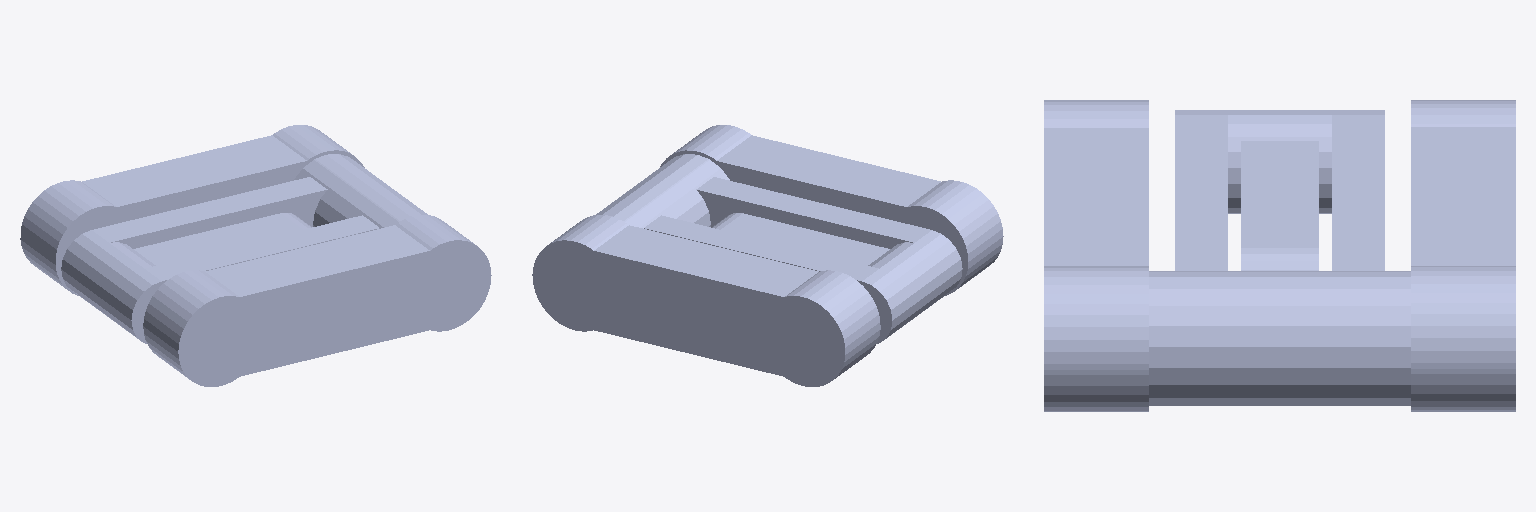
robot.urdf — HMMR:
<robot
  name="HMMR">
  <link
    name="base_link">
    <inertial>
      <origin
        xyz="-0.29285 0 -1.1102E-16"
        rpy="0 0 0" />
      <mass
        value="100" />
      <inertia
        ixx="13.041"
        ixy="5.7234E-16"
        ixz="-9.4857E-16"
        iyy="10.742"
        iyz="8.2239E-16"
        izz="22.623" />
    </inertial>
    <visual>
      <origin
        xyz="0 0 0"
        rpy="0 0 0" />
      <geometry>
        <mesh
          filename="package://HMMR/meshes/base_link.STL" />
      </geometry>
      <material
        name="">
        <color
          rgba="0.79216 0.81961 0.93333 1" />
      </material>
    </visual>
    <collision>
      <origin
        xyz="0 0 0"
        rpy="0 0 0" />
      <geometry>
        <mesh
          filename="package://HMMR/meshes/base_link.STL" />
      </geometry>
    </collision>
  </link>
  <link
    name="L1">
    <inertial>
      <origin
        xyz="-0.37454 0.26079 0"
        rpy="0 0 0" />
      <mass
        value="50" />
      <inertia
        ixx="2.2546"
        ixy="1.7267"
        ixz="3.434E-17"
        iyy="3.5322"
        iyz="-3.7342E-19"
        izz="3.9584" />
    </inertial>
    <visual>
      <origin
        xyz="0 0 0"
        rpy="0 0 0" />
      <geometry>
        <mesh
          filename="package://HMMR/meshes/L1.STL" />
      </geometry>
      <material
        name="">
        <color
          rgba="0.79216 0.81961 0.93333 1" />
      </material>
    </visual>
    <collision>
      <origin
        xyz="0 0 0"
        rpy="0 0 0" />
      <geometry>
        <mesh
          filename="package://HMMR/meshes/L1.STL" />
      </geometry>
    </collision>
  </link>
  <joint
    name="Revolute1"
    type="revolute">
    <origin
      xyz="0 0 0"
      rpy="1.5708 -0.60823 4.2634E-17" />
    <parent
      link="base_link" />
    <child
      link="L1" />
    <axis
      xyz="0 0 1" />
    <limit
      effort="0"
      velocity="0" />
  </joint>
  <link
    name="L2">
    <inertial>
      <origin
        xyz="0.21428 0.052924 0"
        rpy="0 0 0" />
      <mass
        value="15" />
      <inertia
        ixx="0.056466"
        ixy="0.026975"
        ixz="-6.195E-19"
        iyy="0.58936"
        iyz="-1.0894E-18"
        izz="0.58948" />
    </inertial>
    <visual>
      <origin
        xyz="0 0 0"
        rpy="0 0 0" />
      <geometry>
        <mesh
          filename="package://HMMR/meshes/L2.STL" />
      </geometry>
      <material
        name="">
        <color
          rgba="0.79216 0.81961 0.93333 1" />
      </material>
    </visual>
    <collision>
      <origin
        xyz="0 0 0"
        rpy="0 0 0" />
      <geometry>
        <mesh
          filename="package://HMMR/meshes/L2.STL" />
      </geometry>
    </collision>
  </link>
  <joint
    name="Revolute2"
    type="revolute">
    <origin
      xyz="-0.64066 0.36851 0"
      rpy="0 0 -0.55778" />
    <parent
      link="L1" />
    <child
      link="L2" />
    <axis
      xyz="0 0 1" />
    <limit
      effort="0"
      velocity="0" />
  </joint>
  <link
    name="Wheel_FR">
    <inertial>
      <origin
        xyz="0 0 1.1102E-16"
        rpy="0 0 0" />
      <mass
        value="12" />
      <inertia
        ixx="0.10139"
        ixy="0"
        ixz="4.6777E-34"
        iyy="0.10139"
        iyz="-3.3318E-34"
        izz="0.12069" />
    </inertial>
    <visual>
      <origin
        xyz="0 0 0"
        rpy="0 0 0" />
      <geometry>
        <mesh
          filename="package://HMMR/meshes/Wheel_FR.STL" />
      </geometry>
      <material
        name="">
        <color
          rgba="0.79216 0.81961 0.93333 1" />
      </material>
    </visual>
    <collision>
      <origin
        xyz="0 0 0"
        rpy="0 0 0" />
      <geometry>
        <mesh
          filename="package://HMMR/meshes/Wheel_FR.STL" />
      </geometry>
    </collision>
  </link>
  <joint
    name="W_rev_FR"
    type="revolute">
    <origin
      xyz="0 -0.35 0"
      rpy="1.5708 0 0" />
    <parent
      link="base_link" />
    <child
      link="Wheel_FR" />
    <axis
      xyz="0 0 1" />
    <limit
      effort="0"
      velocity="0" />
  </joint>
  <link
    name="Wheel_FL">
    <inertial>
      <origin
        xyz="-1.1102E-16 5.5511E-17 0"
        rpy="0 0 0" />
      <mass
        value="12" />
      <inertia
        ixx="0.10139"
        ixy="-3.2526E-19"
        ixz="-2.8907E-18"
        iyy="0.10139"
        iyz="5.4155E-20"
        izz="0.12069" />
    </inertial>
    <visual>
      <origin
        xyz="0 0 0"
        rpy="0 0 0" />
      <geometry>
        <mesh
          filename="package://HMMR/meshes/Wheel_FL.STL" />
      </geometry>
      <material
        name="">
        <color
          rgba="0.79216 0.81961 0.93333 1" />
      </material>
    </visual>
    <collision>
      <origin
        xyz="0 0 0"
        rpy="0 0 0" />
      <geometry>
        <mesh
          filename="package://HMMR/meshes/Wheel_FL.STL" />
      </geometry>
    </collision>
  </link>
  <joint
    name="W_rev_FL"
    type="revolute">
    <origin
      xyz="0 0.35 0"
      rpy="1.5708 -0.018732 1.1471E-18" />
    <parent
      link="base_link" />
    <child
      link="Wheel_FL" />
    <axis
      xyz="0 0 1" />
    <limit
      effort="0"
      velocity="0" />
  </joint>
  <link
    name="Wheel_BR">
    <inertial>
      <origin
        xyz="1.3878E-17 0 -1.1102E-16"
        rpy="0 0 0" />
      <mass
        value="12" />
      <inertia
        ixx="0.10139"
        ixy="1.2529E-49"
        ixz="1.118E-33"
        iyy="0.10139"
        iyz="-3.3318E-34"
        izz="0.12069" />
    </inertial>
    <visual>
      <origin
        xyz="0 0 0"
        rpy="0 0 0" />
      <geometry>
        <mesh
          filename="package://HMMR/meshes/Wheel_BR.STL" />
      </geometry>
      <material
        name="">
        <color
          rgba="0.79216 0.81961 0.93333 1" />
      </material>
    </visual>
    <collision>
      <origin
        xyz="0 0 0"
        rpy="0 0 0" />
      <geometry>
        <mesh
          filename="package://HMMR/meshes/Wheel_BR.STL" />
      </geometry>
    </collision>
  </link>
  <joint
    name="W_rev_BR"
    type="revolute">
    <origin
      xyz="-0.75 -0.35 0"
      rpy="1.5708 0 0" />
    <parent
      link="base_link" />
    <child
      link="Wheel_BR" />
    <axis
      xyz="0 0 1" />
    <limit
      effort="0"
      velocity="0" />
  </joint>
  <link
    name="Wheel_BL">
    <inertial>
      <origin
        xyz="0 0 0"
        rpy="0 0 0" />
      <mass
        value="12" />
      <inertia
        ixx="0.10139"
        ixy="-6.9389E-18"
        ixz="6.1242E-19"
        iyy="0.10139"
        iyz="-1.3095E-18"
        izz="0.12069" />
    </inertial>
    <visual>
      <origin
        xyz="0 0 0"
        rpy="0 0 0" />
      <geometry>
        <mesh
          filename="package://HMMR/meshes/Wheel_BL.STL" />
      </geometry>
      <material
        name="">
        <color
          rgba="0.79216 0.81961 0.93333 1" />
      </material>
    </visual>
    <collision>
      <origin
        xyz="0 0 0"
        rpy="0 0 0" />
      <geometry>
        <mesh
          filename="package://HMMR/meshes/Wheel_BL.STL" />
      </geometry>
    </collision>
  </link>
  <joint
    name="W_rev_BL"
    type="revolute">
    <origin
      xyz="-0.75 0.35 0"
      rpy="1.5708 0.43747 -2.8637E-17" />
    <parent
      link="base_link" />
    <child
      link="Wheel_BL" />
    <axis
      xyz="0 0 1" />
    <limit
      effort="0"
      velocity="0" />
  </joint>
</robot>

--- Facts derived from the render (not from the file) ---
3 views of the same robot in one strip: view 1: azimuth 30°, elevation 25°; view 2: azimuth 150°, elevation 25°; view 3: azimuth 270°, elevation 25° (orthographic).
Model HMMR with 7 links and 6 joints (6 revolute), rooted at base_link, posed all joints at 0.
Visible links, largest first — view 1: base_link, L1, Wheel_BR, Wheel_BL, Wheel_FR, L2, Wheel_FL; view 2: base_link, L1, Wheel_BL, Wheel_FL, Wheel_BR, L2, Wheel_FR; view 3: base_link, L1, Wheel_FR, Wheel_FL, L2, Wheel_BR, Wheel_BL.
Boxes of the visible links, x1,y1,x2,y2 form: base_link: (60, 135, 485, 381); L1: (61, 177, 379, 343); Wheel_BR: (143, 270, 262, 386); Wheel_BL: (20, 180, 133, 295); Wheel_FR: (396, 215, 491, 331); L2: (134, 213, 311, 265); Wheel_FL: (273, 125, 364, 180); base_link: (537, 135, 963, 376); L1: (644, 177, 962, 343); Wheel_BL: (766, 270, 880, 386); Wheel_FL: (532, 215, 628, 331); Wheel_BR: (907, 180, 1003, 295); L2: (712, 213, 889, 265); Wheel_FR: (660, 125, 750, 166); base_link: (1044, 127, 1515, 405); L1: (1175, 110, 1384, 270); Wheel_FR: (1044, 266, 1148, 411); Wheel_FL: (1411, 266, 1515, 411); L2: (1241, 141, 1318, 270); Wheel_BR: (1044, 100, 1148, 127); Wheel_BL: (1411, 100, 1515, 126).
Bounding box of the posed robot: 1.04 × 0.9 × 0.2798 m (x, y, z).
Meshes: 7 distinct files referenced, 7 mesh visuals loaded (7 binary STL).